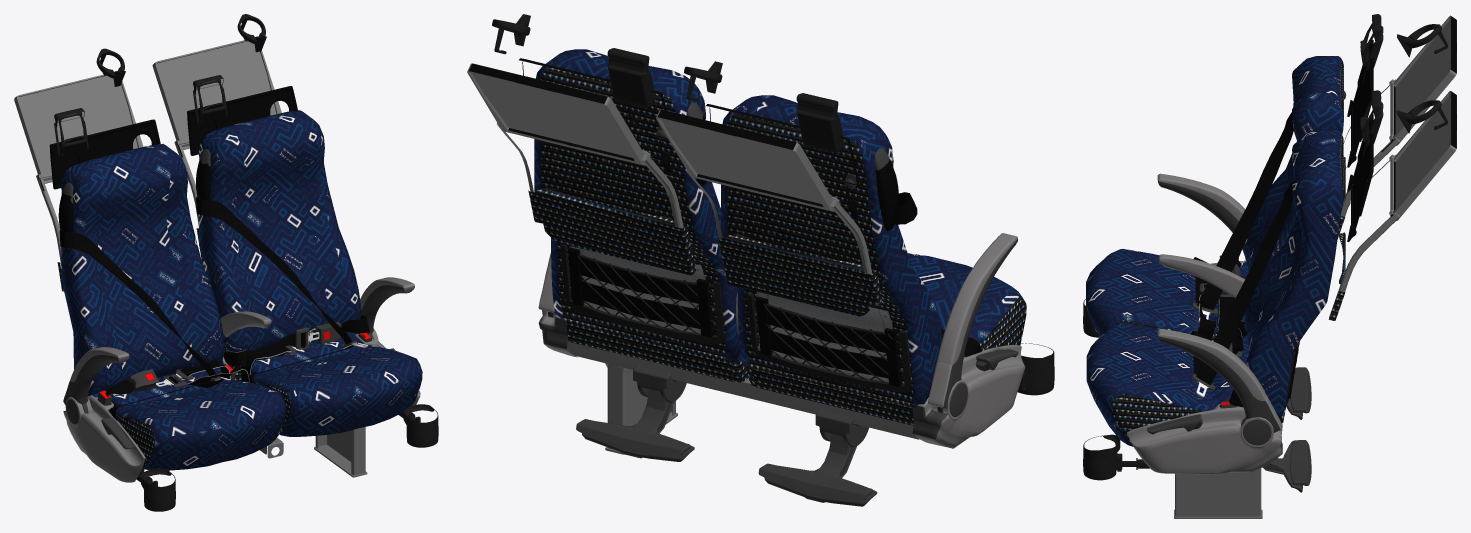
The model's file is asiento amaya.glb.
3 renders of one model, left to right at view 1: azimuth 30°, elevation 25°; view 2: azimuth 150°, elevation 25°; view 3: azimuth 270°, elevation 25°, orthographic. The views are drawn at different scales.
Visible parts, largest first — view 1: RespTravem_DER, RespTravem_IZQ, SeatTravem_DER, SeatTravem_IZQ, mesaAvionTravem_izq, mesaAvionTravem_DER, Tapa_Travem_DER, MesaAbatible_TRAVEM_DER, MesaAbatible_TRAVEM_IZQ, GRUPO_BELTS_EXPORT_STRAP3pts2520_DER, GRUPO_BELTS_EXPORT_STRAP3pts2520_IZQ, PATA_Travem_IZQ (+12 smaller); view 2: RespTravem_DER, RespTravem_IZQ, mesaAvionTravem_izq, mesaAvionTravem_DER, SeatTravem_DER, TapaAvionTravem_IZQ1, TapaAvionTravem_DER, Tapa_Travem_DER, RevisteroBan__Travem_IZQ, RevisteroBan__Travem_DER, CODERA_Travem_DER, BASETUBOS_Travem (+25 smaller); view 3: RespTravem_IZQ, SeatTravem_IZQ, SeatTravem_DER, Tapa_Travem_IZQ, RespTravem_DER, mesaAvionTravem_izq, PATA_Travem_IZQ, mesaAvionTravem_DER, CODERA_Travem_IZQ, GRUPO_BELTS_EXPORT_STRAP3pts2520_DER, GRUPO_BELTS_EXPORT_STRAP3pts2520_IZQ, CODERA_Travem_DER (+12 smaller).
Boxes of the visible parts, x1,y1,x2,y2 form: RespTravem_DER: [61, 144, 224, 395]; RespTravem_IZQ: [199, 110, 361, 351]; SeatTravem_DER: [91, 363, 286, 470]; SeatTravem_IZQ: [230, 332, 422, 436]; mesaAvionTravem_izq: [152, 40, 281, 149]; mesaAvionTravem_DER: [14, 74, 143, 183]; Tapa_Travem_DER: [63, 395, 145, 482]; MesaAbatible_TRAVEM_DER: [49, 119, 160, 189]; MesaAbatible_TRAVEM_IZQ: [187, 86, 297, 155]; GRUPO_BELTS_EXPORT_STRAP3pts2520_DER: [59, 228, 216, 420]; GRUPO_BELTS_EXPORT_STRAP3pts2520_IZQ: [196, 195, 353, 382]; PATA_Travem_IZQ: [314, 427, 367, 477]; RespTravem_DER: [721, 95, 942, 407]; RespTravem_IZQ: [534, 49, 740, 360]; mesaAvionTravem_izq: [467, 63, 645, 165]; mesaAvionTravem_DER: [656, 109, 834, 211]; SeatTravem_DER: [747, 253, 1026, 425]; TapaAvionTravem_IZQ1: [528, 187, 696, 275]; TapaAvionTravem_DER: [718, 234, 882, 316]; Tapa_Travem_DER: [912, 344, 1025, 448]; RevisteroBan__Travem_IZQ: [568, 247, 713, 337]; RevisteroBan__Travem_DER: [756, 296, 901, 386]; CODERA_Travem_DER: [928, 233, 1017, 412]; BASETUBOS_Travem: [566, 341, 918, 439]; RespTravem_IZQ: [1244, 130, 1343, 423]; SeatTravem_IZQ: [1086, 322, 1248, 446]; SeatTravem_DER: [1086, 249, 1248, 341]; Tapa_Travem_IZQ: [1127, 403, 1282, 474]; RespTravem_DER: [1243, 56, 1343, 315]; mesaAvionTravem_izq: [1393, 91, 1456, 220]; PATA_Travem_IZQ: [1174, 468, 1262, 518]; mesaAvionTravem_DER: [1393, 15, 1456, 145]; CODERA_Travem_IZQ: [1157, 328, 1281, 432]; GRUPO_BELTS_EXPORT_STRAP3pts2520_DER: [1193, 112, 1293, 310]; GRUPO_BELTS_EXPORT_STRAP3pts2520_IZQ: [1191, 181, 1293, 384]; CODERA_Travem_DER: [1157, 173, 1246, 260].
Size of the model in its own units: 10.52 by 12.5 by 10.2.
14 materials, 12 textured.
